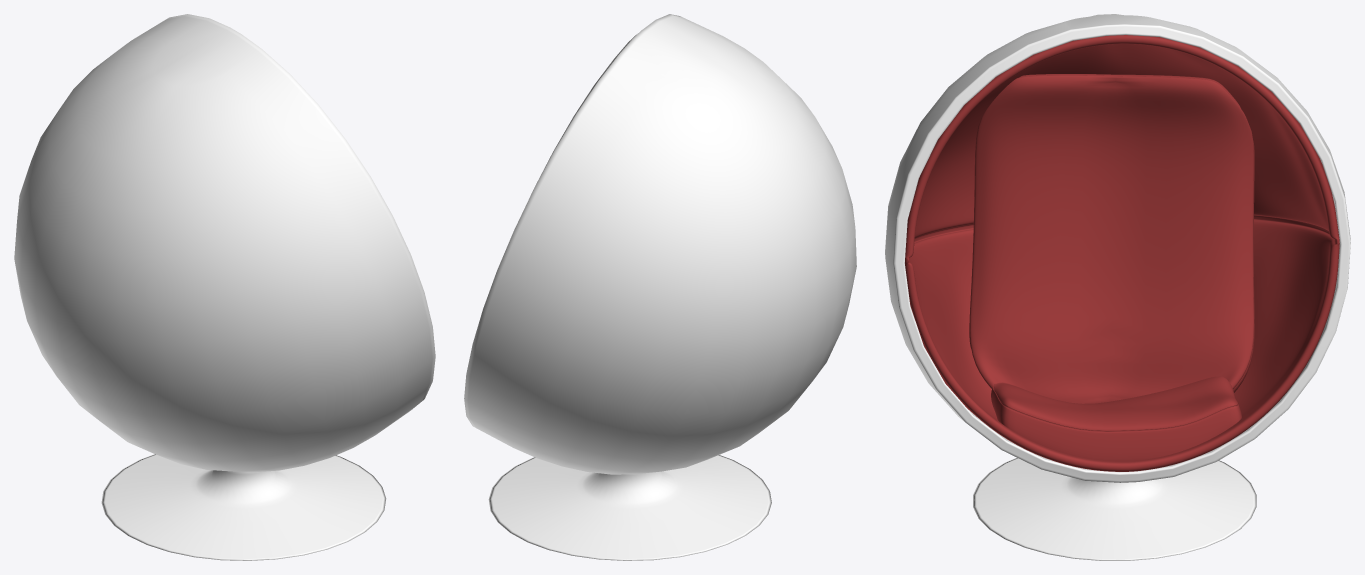
File: eggChair.gltf
3 renders of one model, left to right at view 1: azimuth 30°, elevation 25°; view 2: azimuth 150°, elevation 25°; view 3: azimuth 270°, elevation 25°, orthographic.
Visible parts, largest first — view 1: Sphere.002_2, Cylinder_6; view 2: Sphere.002_2, Cylinder_6; view 3: Cube.009_4, Sphere.003_3, Sphere.002_2, Cylinder_6, Cube_5.
Part boxes in pixels (box(x1,y1,x2,y2)): Sphere.002_2: box(14, 14, 435, 472); Cylinder_6: box(101, 454, 386, 560); Sphere.002_2: box(464, 14, 856, 474); Cylinder_6: box(488, 455, 771, 560); Cube.009_4: box(969, 74, 1254, 403); Sphere.003_3: box(905, 35, 1339, 471); Sphere.002_2: box(885, 14, 1350, 482); Cylinder_6: box(973, 457, 1256, 560); Cube_5: box(991, 376, 1241, 461).
Bounding box in the file's own units: 0.53 × 0.7468 × 0.668.
